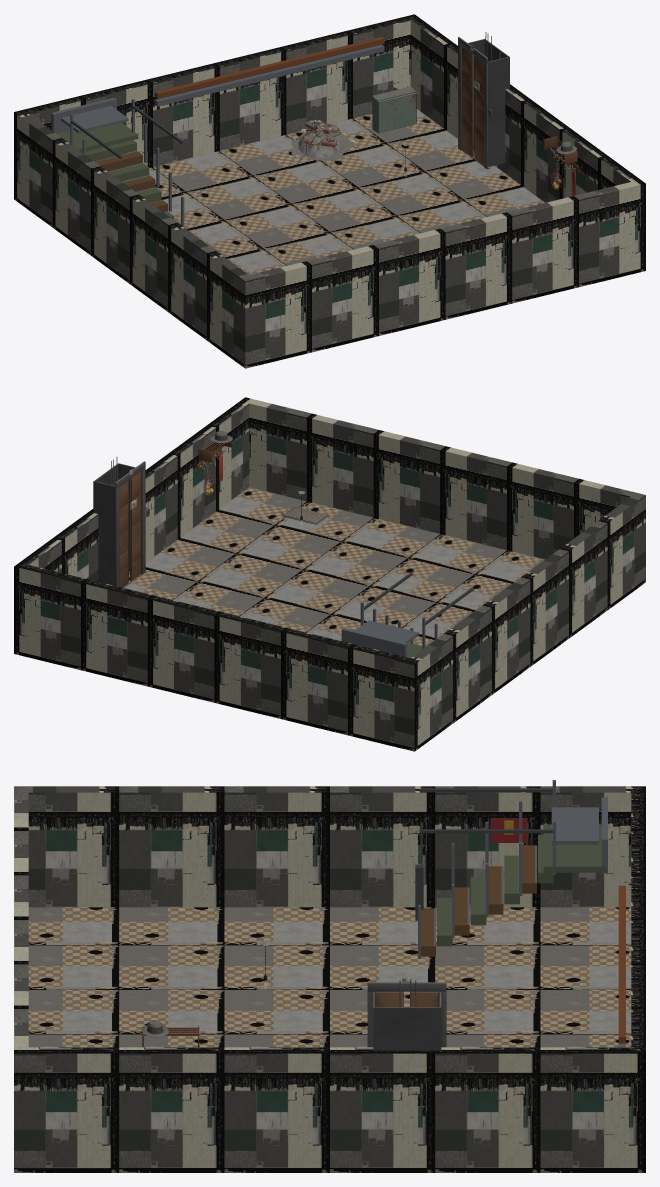
The model's file is room_stairwell_up.glb.
The picture shows the model from 3 angles, top to bottom: view 1: azimuth 30°, elevation 25°; view 2: azimuth 150°, elevation 25°; view 3: azimuth 270°, elevation 25°; orthographic projection. The views are drawn at different scales.
Parts seen in each view (by area): view 1: Floor, Wall_S_A, Wall_S_B, Wall_N_B, Wall_W_A, Wall_W_B, Plug_S, SM_Elevator_Door, Wall_N_A, Plug_N, Wall_E_B, Plug_W (+16 smaller); view 2: Floor, Wall_N_A, Wall_N_B, Wall_S_B, Wall_S_A, Wall_W_A, Wall_W_B, Wall_E_A, Plug_N, Plug_S, SM_Elevator_Door, Plug_W (+8 smaller); view 3: Floor, Wall_W_A, Wall_E_A, Wall_E_B, Wall_W_B, Plug_W, Plug_E, SM_Elevator_Door, Wall_N_B, Wall_S_B, Wall_W_L, Wall_E_L (+18 smaller).
Part boxes in pixels (x1,y1,x2,y2): Floor: (14, 109, 645, 368); Wall_S_A: (240, 239, 402, 364); Wall_S_B: (484, 179, 645, 305); Wall_N_B: (258, 14, 419, 140); Wall_W_A: (154, 213, 248, 360); Wall_W_B: (19, 113, 113, 261); Plug_S: (402, 232, 488, 326); SM_Elevator_Door: (458, 32, 509, 169); Wall_N_A: (14, 74, 176, 199); Plug_N: (176, 73, 262, 161); Wall_E_B: (410, 18, 495, 166); Plug_W: (104, 189, 154, 298); Floor: (14, 487, 645, 751); Wall_N_A: (257, 622, 419, 747); Wall_N_B: (14, 562, 175, 688); Wall_S_B: (240, 397, 401, 523); Wall_S_A: (483, 457, 645, 582); Wall_W_A: (546, 496, 640, 644); Wall_W_B: (411, 596, 505, 743); Wall_E_A: (155, 401, 249, 549); Plug_N: (171, 615, 257, 709); Plug_S: (397, 450, 483, 544); SM_Elevator_Door: (93, 457, 149, 587); Plug_W: (505, 572, 555, 681); Floor: (14, 907, 645, 1172); Wall_W_A: (28, 786, 261, 907); Wall_E_A: (28, 1047, 261, 1167); Wall_E_B: (398, 1047, 631, 1167); Wall_W_B: (398, 786, 631, 907); Plug_W: (261, 807, 398, 907); Plug_E: (261, 1068, 398, 1167); SM_Elevator_Door: (367, 978, 446, 1050); Wall_N_B: (631, 949, 645, 1167); Wall_S_B: (14, 949, 28, 1167); Wall_W_L: (261, 786, 398, 806); Wall_E_L: (261, 1047, 398, 1067).
Bounding box in the file's own units: 12 × 3.85 × 12.
Materials: 18 (8 with a texture image).
